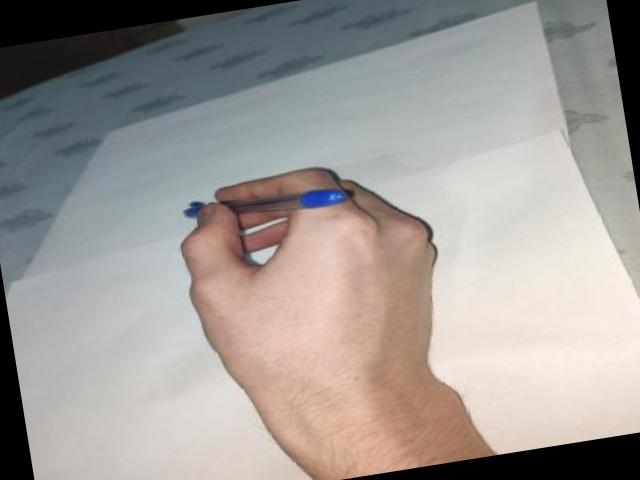PEN: (174, 177, 350, 233)
